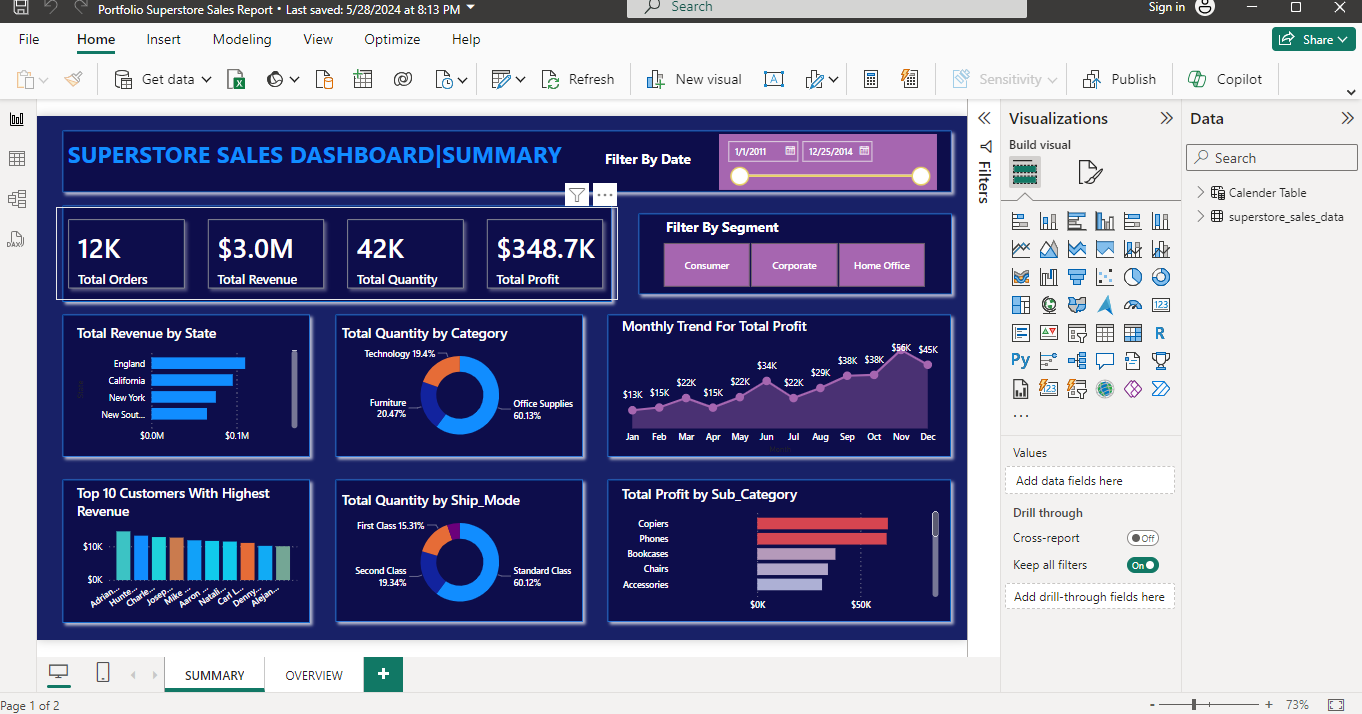

Layout of this report page (visuals, bound fields, positions):
{"tool":"powerbi","page":{"name":"SUMMARY","canvas":[1280,720],"ordinal":0},"visuals":[{"type":"shape","box":[26.2,10.8,1241.5,103.1],"z":0},{"type":"textbox","box":[36.9,24.6,740,76.9],"z":1000},{"type":"shape","box":[26.2,113.8,773.8,150.8],"z":2000},{"type":"shape","box":[26.2,264.6,358.5,213.8],"z":3000},{"type":"shape","box":[26.2,490.8,358.5,215.4],"z":4000},{"type":"shape","box":[401.5,264.6,358.5,213.8],"z":5000},{"type":"shape","box":[401.5,490.8,358.5,213.8],"z":6000},{"type":"shape","box":[776.9,264.6,490.8,213.8],"z":7000},{"type":"shape","box":[776.9,490.8,490.8,213.8],"z":8000},{"type":"shape","box":[818.5,124.6,449.2,129.2],"z":9000},{"type":"textbox","box":[860,135.4,229.2,43.1],"z":10000},{"type":"textbox","box":[776.9,41.5,152.3,43.1],"z":11000},{"type":"cardVisual","fields":{"Data":["SuperStore_Sales_Marketing.Total Orders","SuperStore_Sales_Marketing.Total Revenue","SuperStore_Sales_Marketing.Total Quantity","SuperStore_Sales_Marketing.Total Profits"]},"box":[26.2,124.6,773.8,129.2],"z":12000},{"type":"barChart","fields":{"Category":["SuperStore_Sales_Marketing.State"],"Y":["SuperStore_Sales_Marketing.Total Revenue"]},"box":[49.2,284.6,313.8,173.8],"z":13000},{"type":"donutChart","fields":{"Category":["SuperStore_Sales_Marketing.Category"],"Y":["SuperStore_Sales_Marketing.Total Quantity"]},"box":[413.8,284.6,335.4,173.8],"z":14000},{"type":"areaChart","title":"Monthly Trend For Total Profit","fields":{"Category":["Calender table.Month"],"Y":["SuperStore_Sales_Marketing.Total Profits"]},"box":[800,275.4,446.2,193.8],"z":15000},{"type":"columnChart","title":"Top 10 Customers With Highest Revenue","fields":{"Category":["SuperStore_Sales_Marketing.Customer_Name"],"Y":["SuperStore_Sales_Marketing.Total Revenue"]},"box":[49.2,504.6,313.8,184.6],"z":16000},{"type":"donutChart","fields":{"Category":["SuperStore_Sales_Marketing.Ship_Mode"],"Y":["SuperStore_Sales_Marketing.Total Quantity"]},"box":[413.8,515.4,335.4,173.8],"z":17000},{"type":"barChart","fields":{"Category":["SuperStore_Sales_Marketing.Sub_Category"],"Y":["SuperStore_Sales_Marketing.Total Profits"]},"box":[799.7,506.5,445.9,184.4],"z":18000},{"type":"slicer","fields":{"Values":["SuperStore_Sales_Marketing.Segment"]},"box":[836.9,167.7,409.2,73.8],"z":19000},{"type":"slicer","fields":{"Values":["Calender table.Date"]},"box":[938.5,24.6,300,76.9],"z":20000}]}

Visuals, with their boxes on the page's 1280x720 design canvas (x1, y1, x2, y2). These are canvas units, not pixel positions in the 1362x714 screenshot, which may show the page scaled, cropped or inside an application window:
shape: (x1=26, y1=11, x2=1268, y2=114)
textbox: (x1=37, y1=25, x2=777, y2=102)
shape: (x1=26, y1=114, x2=800, y2=265)
shape: (x1=26, y1=265, x2=385, y2=478)
shape: (x1=26, y1=491, x2=385, y2=706)
shape: (x1=402, y1=265, x2=760, y2=478)
shape: (x1=402, y1=491, x2=760, y2=705)
shape: (x1=777, y1=265, x2=1268, y2=478)
shape: (x1=777, y1=491, x2=1268, y2=705)
shape: (x1=818, y1=125, x2=1268, y2=254)
textbox: (x1=860, y1=135, x2=1089, y2=178)
textbox: (x1=777, y1=42, x2=929, y2=85)
cardVisual - SuperStore_Sales_Marketing.Total Orders x SuperStore_Sales_Marketing.Total Revenue: (x1=26, y1=125, x2=800, y2=254)
barChart - SuperStore_Sales_Marketing.State x SuperStore_Sales_Marketing.Total Revenue: (x1=49, y1=285, x2=363, y2=458)
donutChart - SuperStore_Sales_Marketing.Category x SuperStore_Sales_Marketing.Total Quantity: (x1=414, y1=285, x2=749, y2=458)
"Monthly Trend For Total Profit" areaChart: (x1=800, y1=275, x2=1246, y2=469)
"Top 10 Customers With Highest Revenue" columnChart: (x1=49, y1=505, x2=363, y2=689)
donutChart - SuperStore_Sales_Marketing.Ship_Mode x SuperStore_Sales_Marketing.Total Quantity: (x1=414, y1=515, x2=749, y2=689)
barChart - SuperStore_Sales_Marketing.Sub_Category x SuperStore_Sales_Marketing.Total Profits: (x1=800, y1=506, x2=1246, y2=691)
slicer - SuperStore_Sales_Marketing.Segment: (x1=837, y1=168, x2=1246, y2=242)
slicer - Calender table.Date: (x1=938, y1=25, x2=1238, y2=102)
